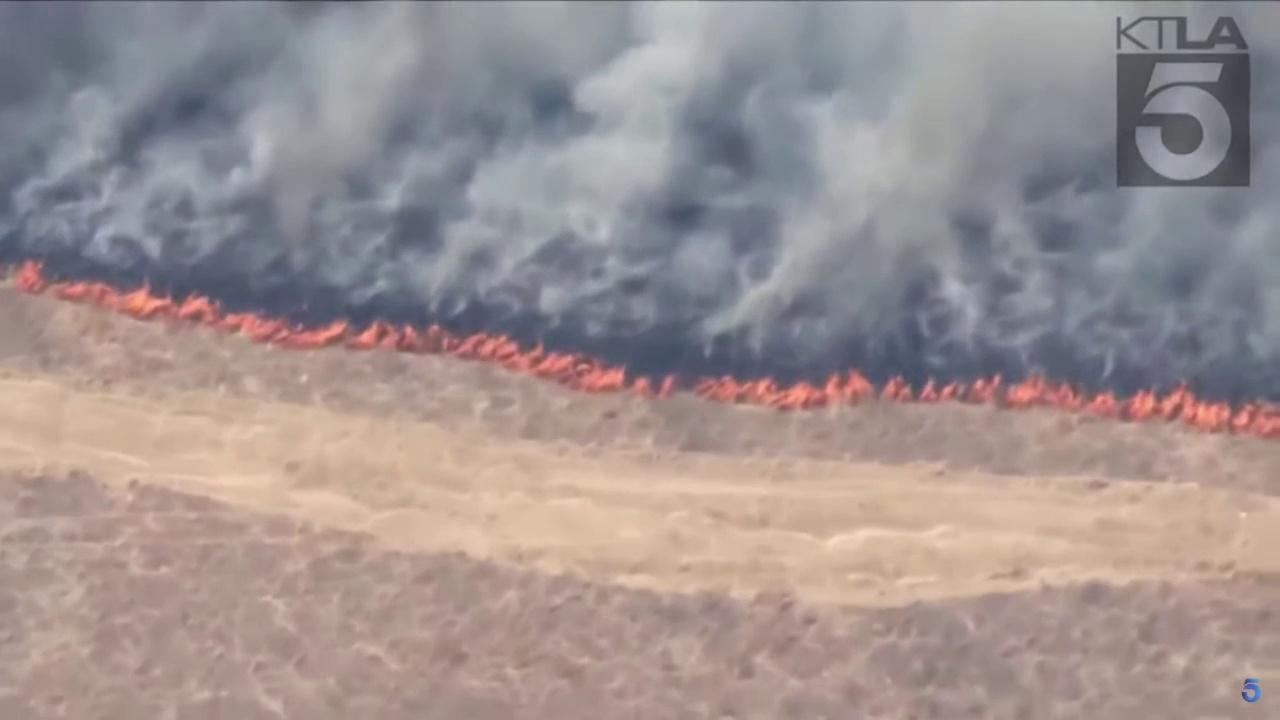fire: (54, 270, 625, 395), (692, 366, 1280, 439), (12, 257, 44, 294), (633, 373, 673, 399)
smoke: (0, 0, 1280, 394)
